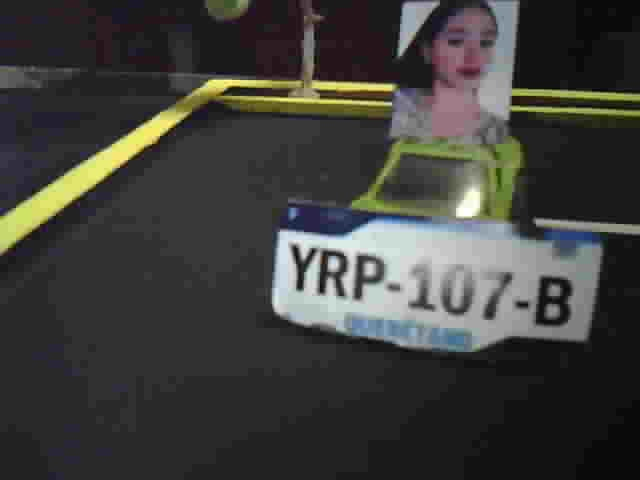PLACA: (267, 195, 606, 366)
ROSTRO: (389, 1, 513, 142)
